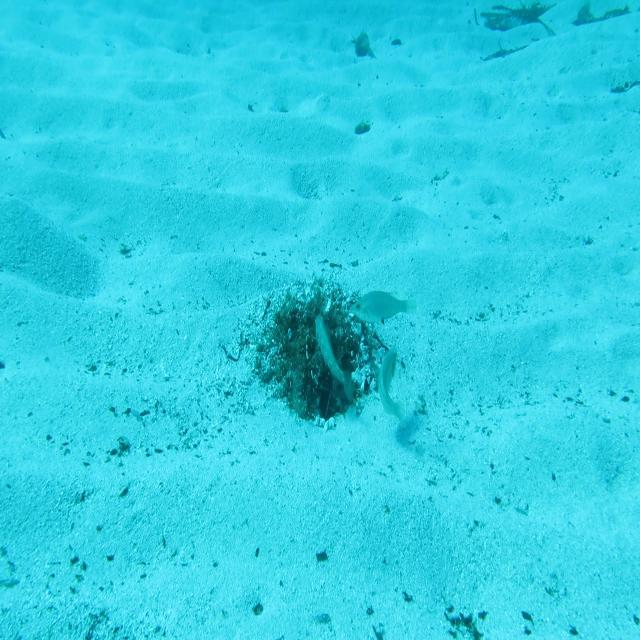SHAK: (310, 312, 365, 401)
female: (374, 341, 408, 423)
nest: (253, 270, 393, 418)
other_fish: (346, 286, 419, 328)
